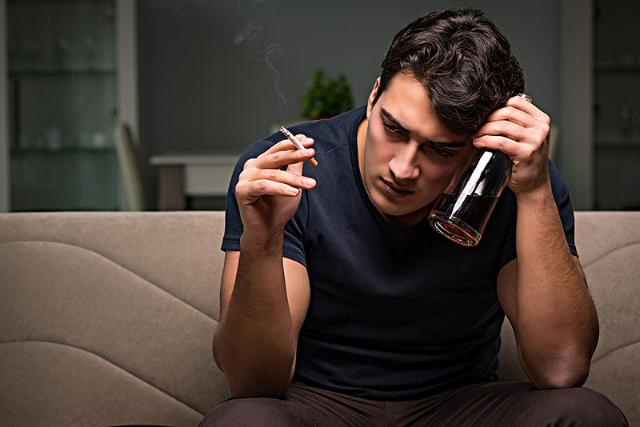Cigarette: (276, 120, 320, 168)
